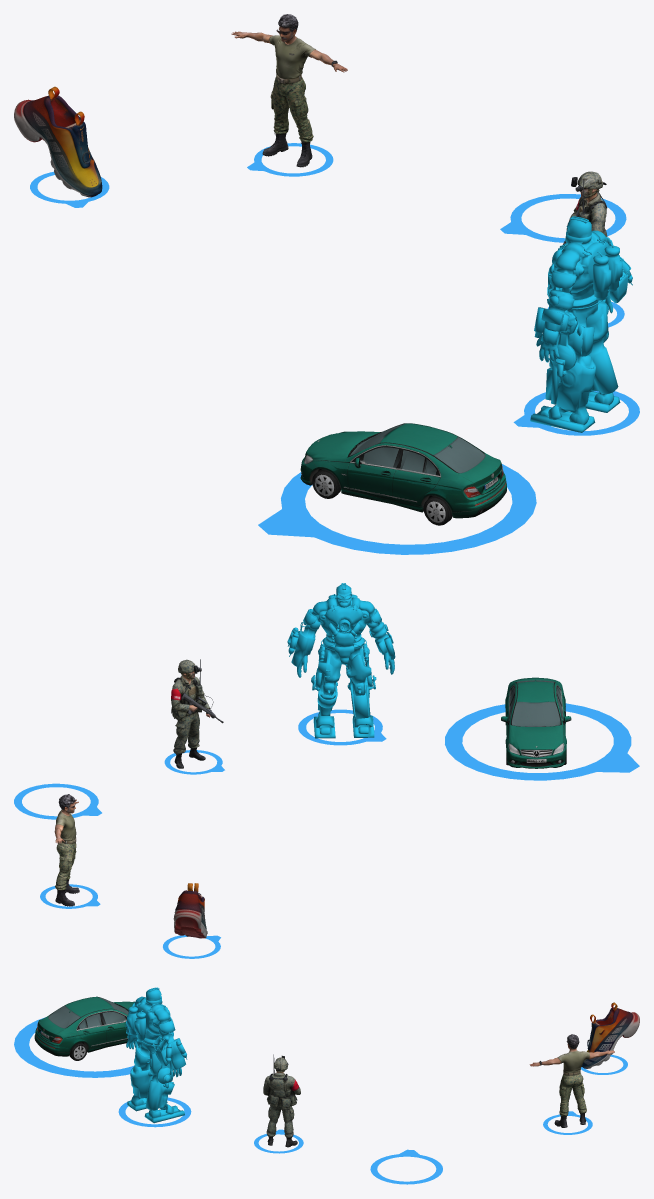
Rendered from 3d_set_4_station.glb.
3 views of the same model, one above another, from view 1: azimuth 30°, elevation 25°; view 2: azimuth 150°, elevation 25°; view 3: azimuth 270°, elevation 25° (orthographic). The views are drawn at different scales.
Parts seen in each view (by area): view 1: tripo_node_7f4024d2, tripo_node_f2fea15e.001, Circle.006, tripo_node_aff7f027, tripo_node_853687b5, tripo_node_5e8306aa, Circle.003, Circle.005, Circle.002; view 2: tripo_node_f2fea15e.001, tripo_node_7f4024d2, Circle.006, tripo_node_5e8306aa, tripo_node_853687b5, tripo_node_aff7f027, Circle.003, Circle.005; view 3: tripo_node_f2fea15e.001, tripo_node_7f4024d2, tripo_node_853687b5, tripo_node_5e8306aa, tripo_node_aff7f027, Circle.006, Circle.003, Circle.005, Circle.002, Circle.004.
Part boxes in pixels (x1,y1,x2,y2): tripo_node_7f4024d2: (300,423,506,525); tripo_node_f2fea15e.001: (530,216,632,432); Circle.006: (258,464,536,554); tripo_node_aff7f027: (14,86,102,197); tripo_node_853687b5: (231,14,347,167); tripo_node_5e8306aa: (563,171,607,244); Circle.003: (500,194,626,242); Circle.005: (513,391,639,435); Circle.002: (247,143,333,176); tripo_node_f2fea15e.001: (287,583,395,738); tripo_node_7f4024d2: (501,677,571,768); Circle.006: (445,703,639,780); tripo_node_5e8306aa: (171,659,223,768); tripo_node_853687b5: (54,794,79,906); tripo_node_aff7f027: (173,883,207,938); Circle.003: (14,783,101,819); Circle.005: (298,709,386,745); tripo_node_f2fea15e.001: (125,987,187,1123); tripo_node_7f4024d2: (34,996,134,1060); tripo_node_853687b5: (529,1034,614,1127); tripo_node_5e8306aa: (263,1054,300,1147); tripo_node_aff7f027: (581,1002,639,1068); Circle.006: (14,1017,133,1077); Circle.003: (370,1149,442,1184); Circle.005: (118,1097,191,1127); Circle.002: (543,1111,592,1134); Circle.004: (254,1129,303,1153).
Bounding box in the file's own units: 3.22 × 0.998 × 4.65.
6 materials, 4 textured.
